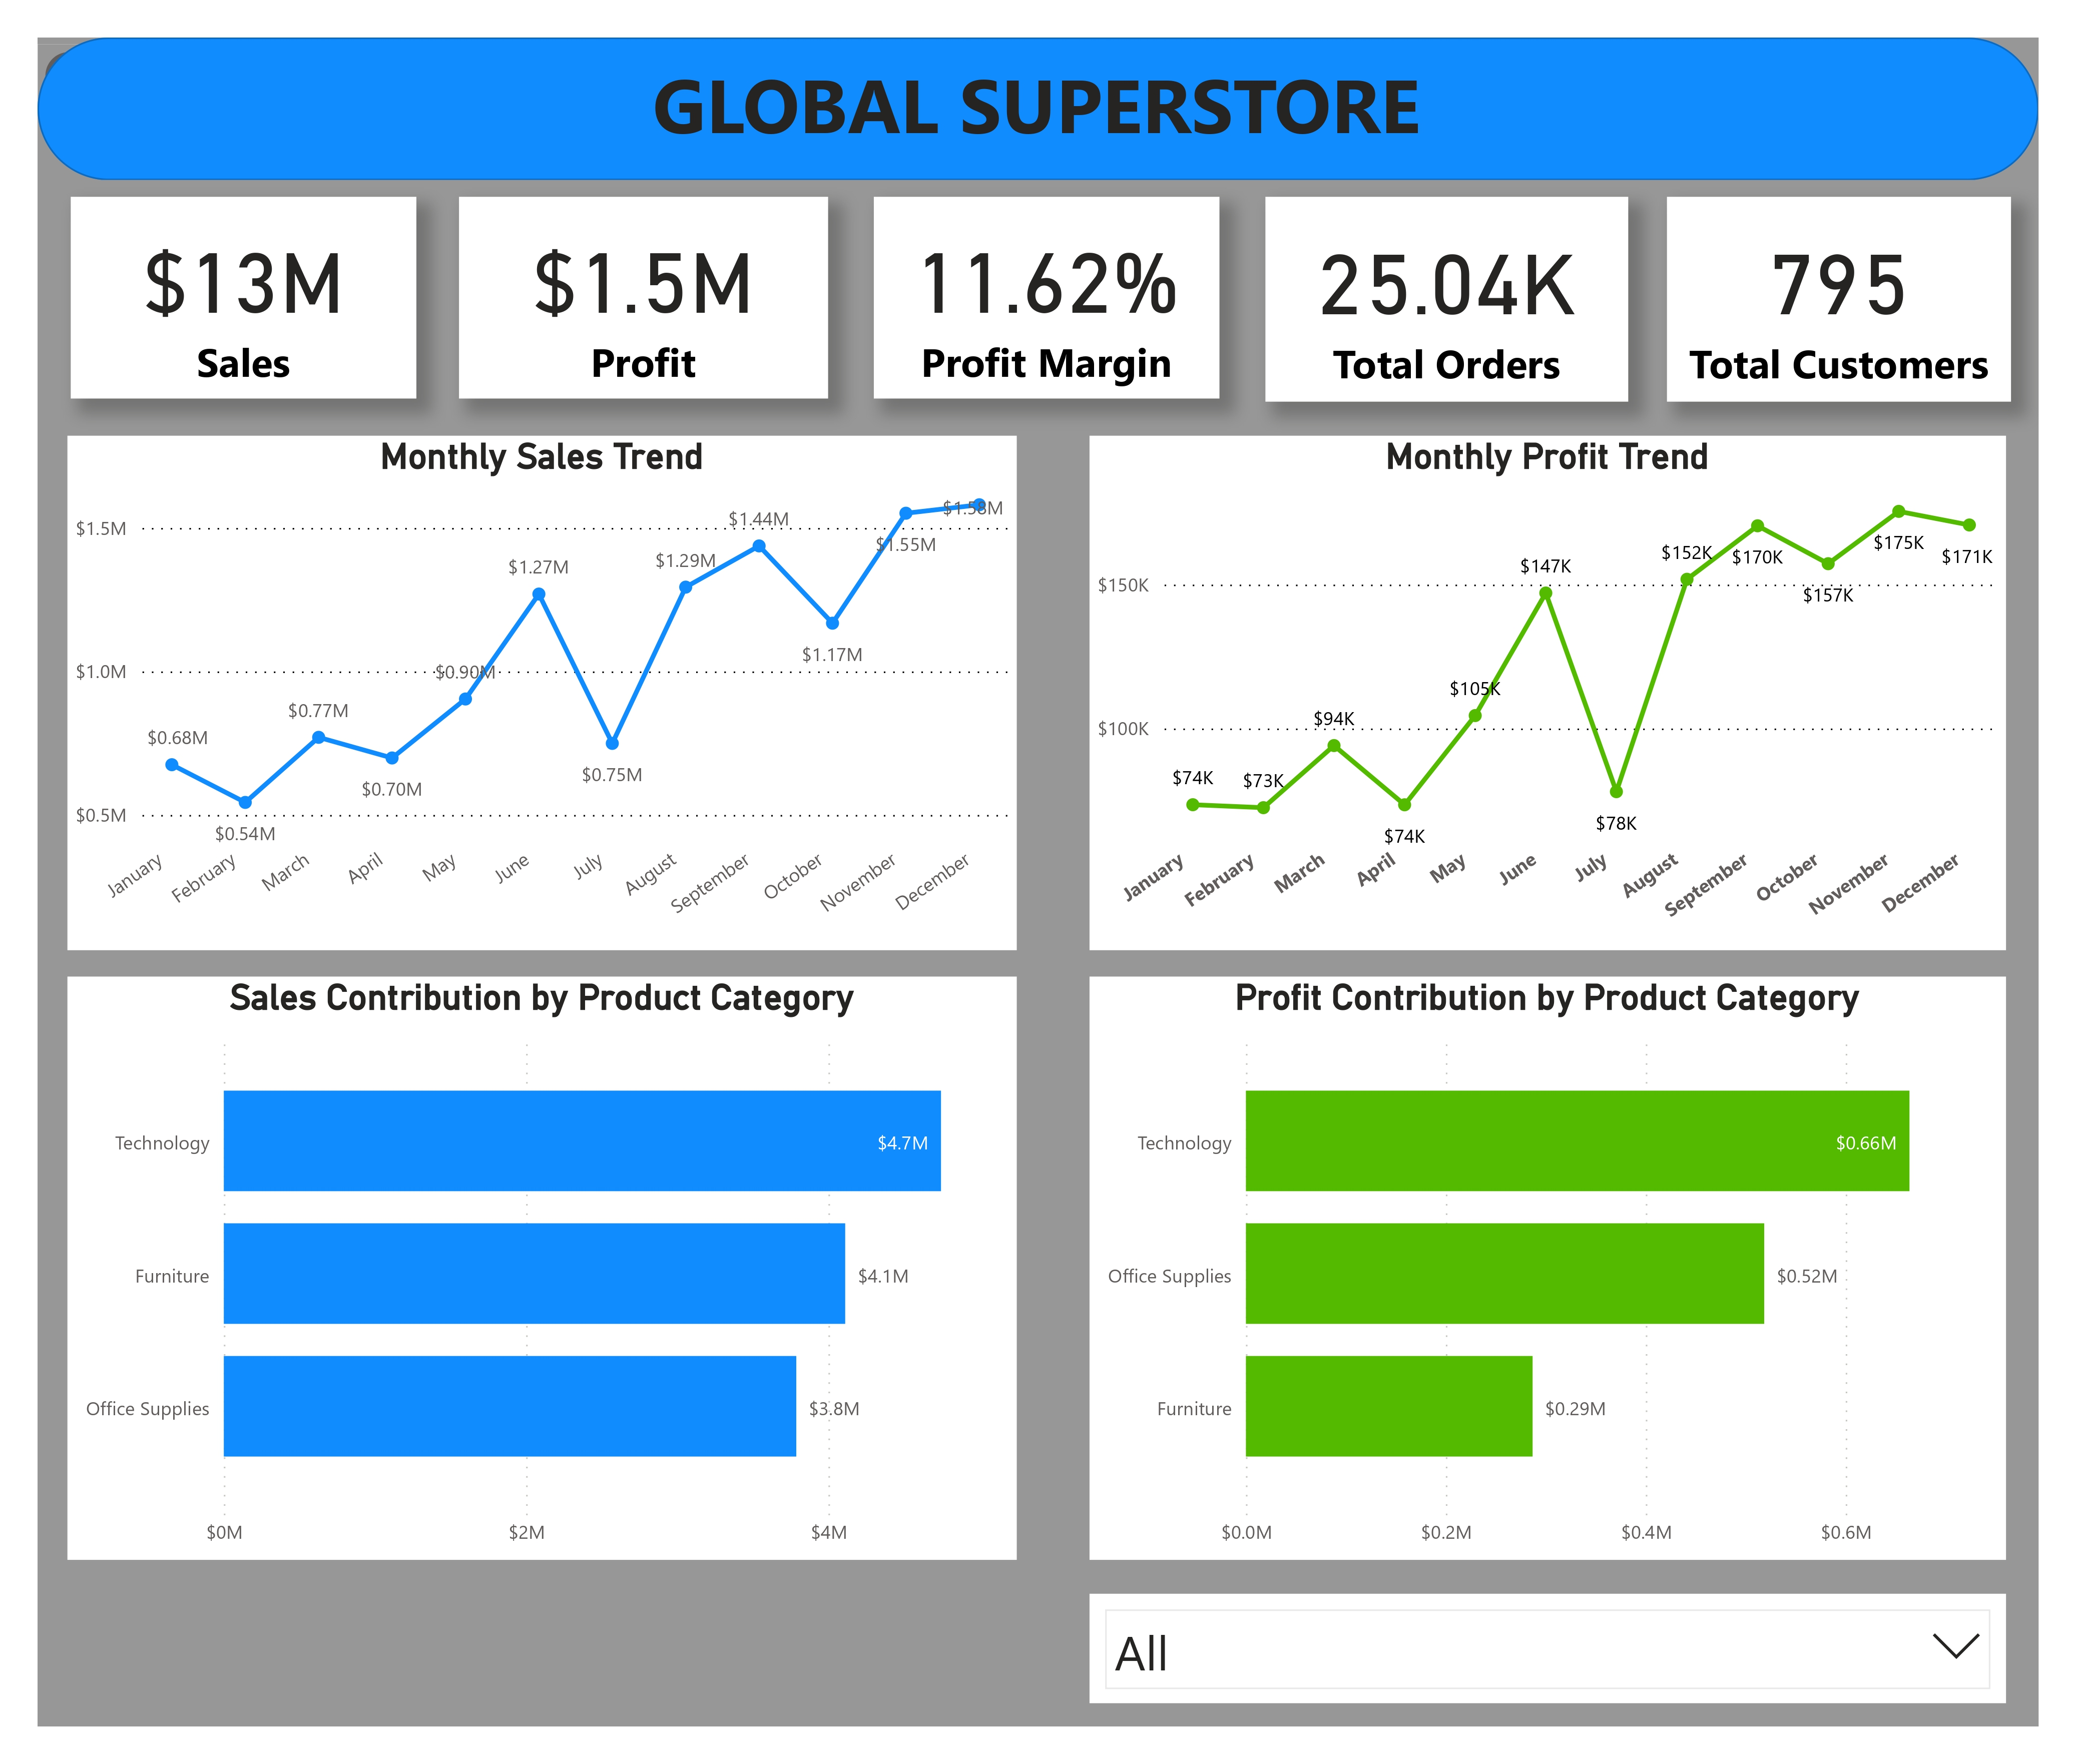

The dashboard page shown, as its layout file describes it:
{"tool":"powerbi","page":{"name":"Overview","canvas":[1280,1080],"ordinal":0},"visuals":[{"type":"card","title":"Sales","fields":{"Values":["Sum(global-superstore-clean.sales)"]},"box":[21.8,101.5,220.7,129.4],"z":0},{"type":"card","fields":{"Values":["Sum(global-superstore-clean.profit)"]},"box":[270.1,101.5,235.5,129.4],"z":1000},{"type":"card","fields":{"Values":["global-superstore-clean.Profit Margin (%)"]},"box":[535.3,101.5,220.7,129.4],"z":2000},{"type":"card","fields":{"Values":["Count(global-superstore-clean.order_id)"]},"box":[785.5,101,231.8,131],"z":3000},{"type":"card","fields":{"Values":["Count(global-superstore-clean.customer_name)"]},"box":[1040.8,101,220.1,131],"z":4000},{"type":"lineChart","title":"Monthly Sales Trend","fields":{"Category":["global-superstore-clean.month_name"],"Y":["Sum(global-superstore-clean.sales)"]},"box":[19.1,254.6,606.8,328.9],"z":5000},{"type":"lineChart","title":"Monthly Profit Trend","fields":{"Category":["global-superstore-clean.month_name"],"Y":["Sum(global-superstore-clean.profit)"]},"box":[672.6,254.6,585.6,328.9],"z":6000},{"type":"clusteredBarChart","title":"Sales Contribution by Product Category","fields":{"Category":["global-superstore-clean.category"],"Y":["Sum(global-superstore-clean.sales)"]},"box":[19.1,600.5,606.8,373.4],"z":7000},{"type":"clusteredBarChart","title":"Profit Contribution by Product Category","fields":{"Category":["global-superstore-clean.category"],"Y":["Sum(global-superstore-clean.Total Profit)"]},"box":[672.6,600.5,585.6,373.4],"z":8000},{"type":"actionButton","box":[0,4.2,99.7,40.3],"z":9000},{"type":"slicer","fields":{"Values":["global-superstore-clean.year Hierarchy.year","global-superstore-clean.year Hierarchy.market","global-superstore-clean.year Hierarchy.region","global-superstore-clean.year Hierarchy.country","global-superstore-clean.year Hierarchy.state"]},"box":[672.6,995.1,585.6,70],"z":10000},{"type":"shape","box":[0,0,1279.4,91.2],"z":11000},{"type":"textbox","box":[19.1,4.2,1239.1,89.1],"z":12000}]}

Visuals, with their boxes on the page's 1280x1080 design canvas (x1, y1, x2, y2). These are canvas units, not pixel positions in the 2077x1764 screenshot, which may show the page scaled, cropped or inside an application window:
"Sales" card: (22,102,242,231)
card - Sum(global-superstore-clean.profit): (270,102,506,231)
card - global-superstore-clean.Profit Margin (%): (535,102,756,231)
card - Count(global-superstore-clean.order_id): (786,101,1017,232)
card - Count(global-superstore-clean.customer_name): (1041,101,1261,232)
"Monthly Sales Trend" lineChart: (19,255,626,584)
"Monthly Profit Trend" lineChart: (673,255,1258,584)
"Sales Contribution by Product Category" clusteredBarChart: (19,600,626,974)
"Profit Contribution by Product Category" clusteredBarChart: (673,600,1258,974)
actionButton: (0,4,100,44)
slicer - global-superstore-clean.year Hierarchy.year x global-superstore-clean.year Hierarchy.market: (673,995,1258,1065)
shape: (0,0,1279,91)
textbox: (19,4,1258,93)
